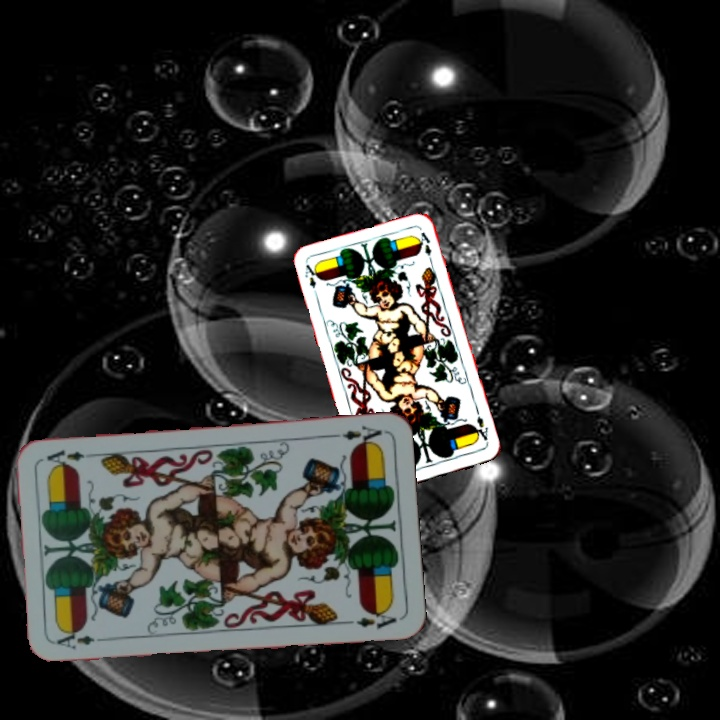EA: (327, 421, 384, 448), (53, 628, 111, 652), (470, 412, 491, 446), (301, 260, 322, 291)
